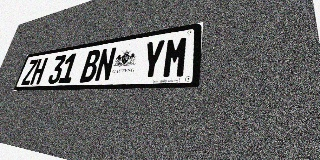1: (58, 53, 79, 83)
3: (47, 55, 67, 84)
B: (79, 49, 101, 83)
H: (30, 57, 48, 85)
M: (161, 35, 189, 79)
N: (94, 47, 117, 82)
Y: (139, 39, 166, 80)
Z: (21, 59, 39, 85)
